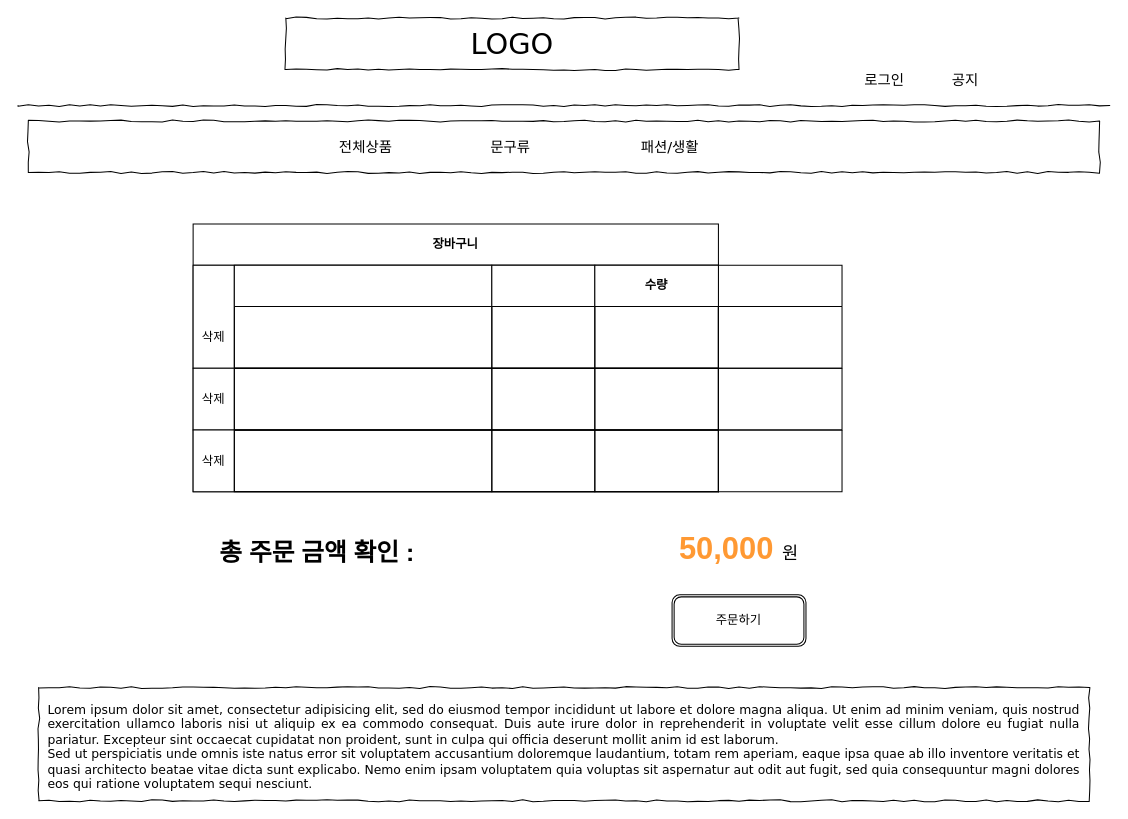
Some shapes in this 1128 by 819 pixel diagram are drawn without their labels. The centre of each missing label's shape, as x and y in pixels:
상품정보: pixel 362 316
판매가: pixel 543 316
합계: pixel 779 316
